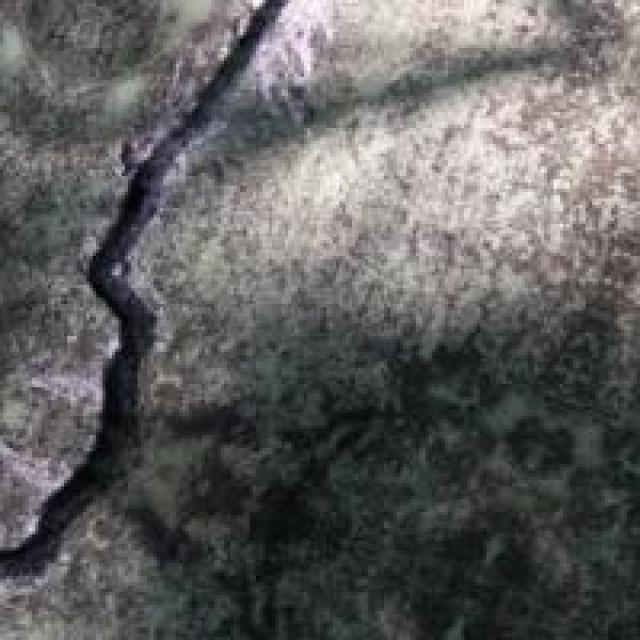crack: (0, 6, 330, 605)
